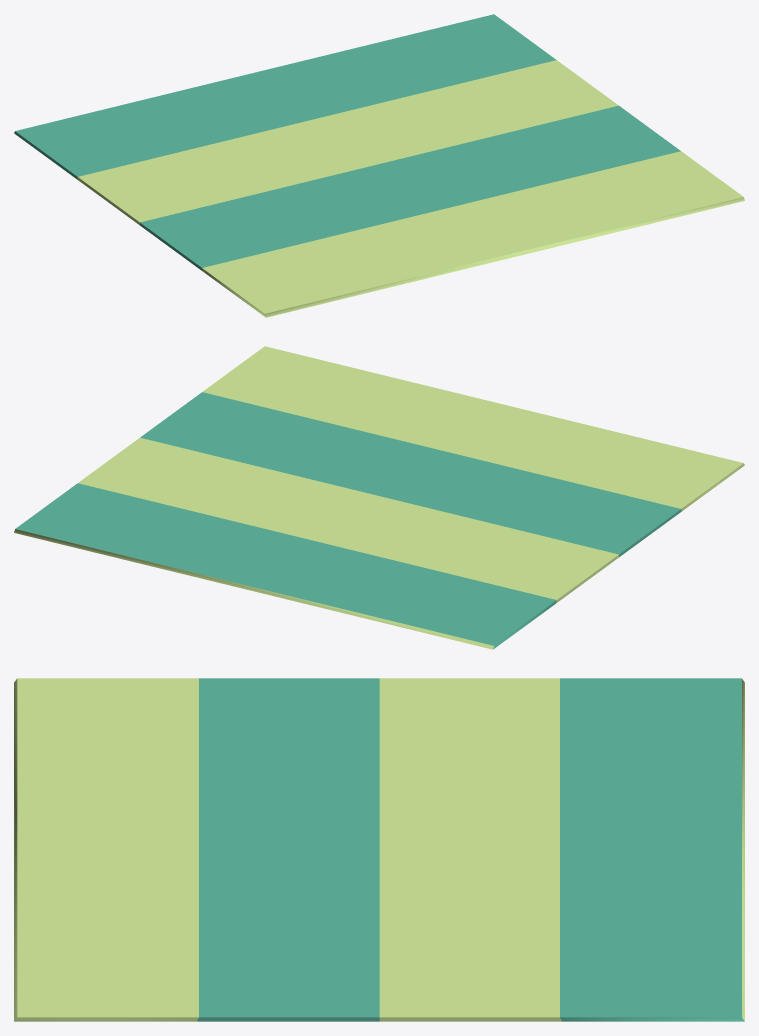
The model's file is cangagrande.fbx.
The picture shows the model from 3 angles, top to bottom: view 1: azimuth 30°, elevation 25°; view 2: azimuth 150°, elevation 25°; view 3: azimuth 270°, elevation 25°; orthographic projection. The views are drawn at different scales.
Visible parts, largest first — view 1: cangagrande; view 2: cangagrande; view 3: cangagrande.
Boxes of the visible parts, x1,y1,x2,y2 form: cangagrande: [14, 14, 744, 317]; cangagrande: [14, 346, 744, 649]; cangagrande: [14, 678, 744, 1021].
Size of the model in its own units: 103 by 0.6248 by 93.7.
